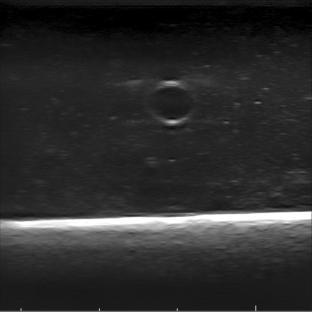vessel: (144, 81, 197, 125)
